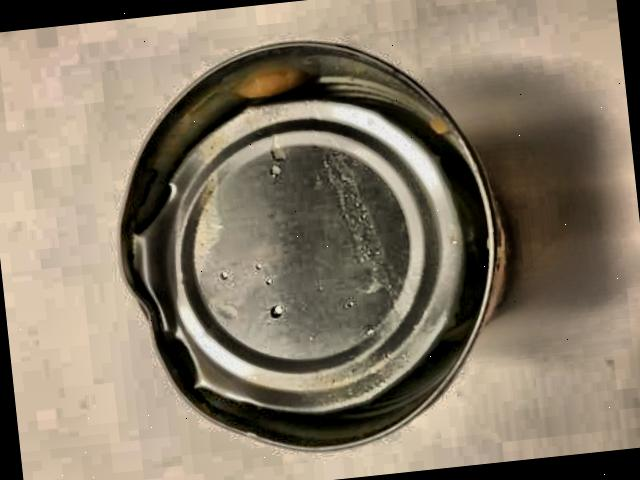Almennt: (83, 8, 553, 477)
